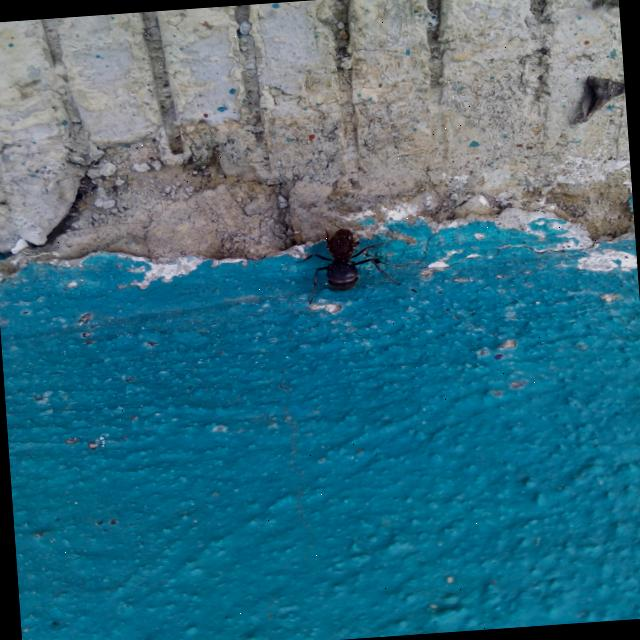Alive-Female-Dealate: (293, 218, 402, 306)
